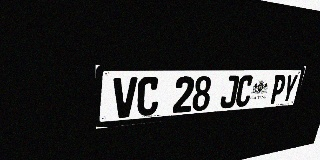2: (173, 76, 195, 113)
8: (191, 76, 213, 111)
C: (136, 77, 160, 117), (234, 75, 254, 107)
J: (219, 75, 240, 109)
P: (268, 75, 287, 104)
V: (113, 77, 137, 119)
Y: (280, 74, 298, 103)
